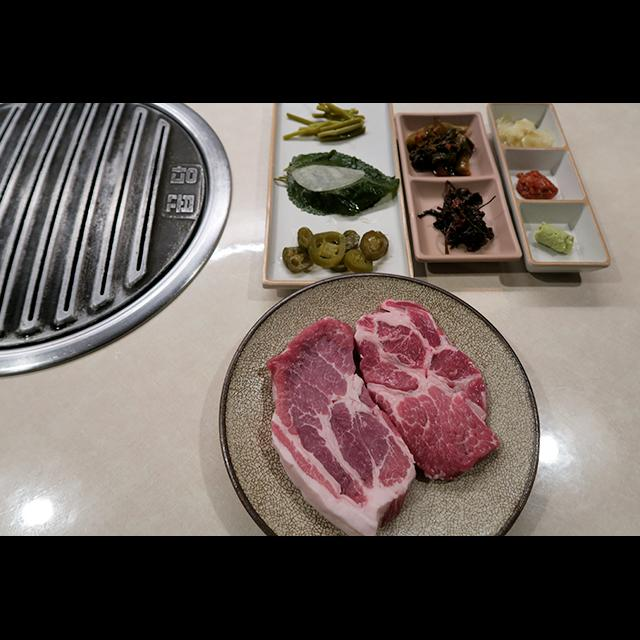beef: (265, 317, 417, 536), (354, 298, 502, 482)
